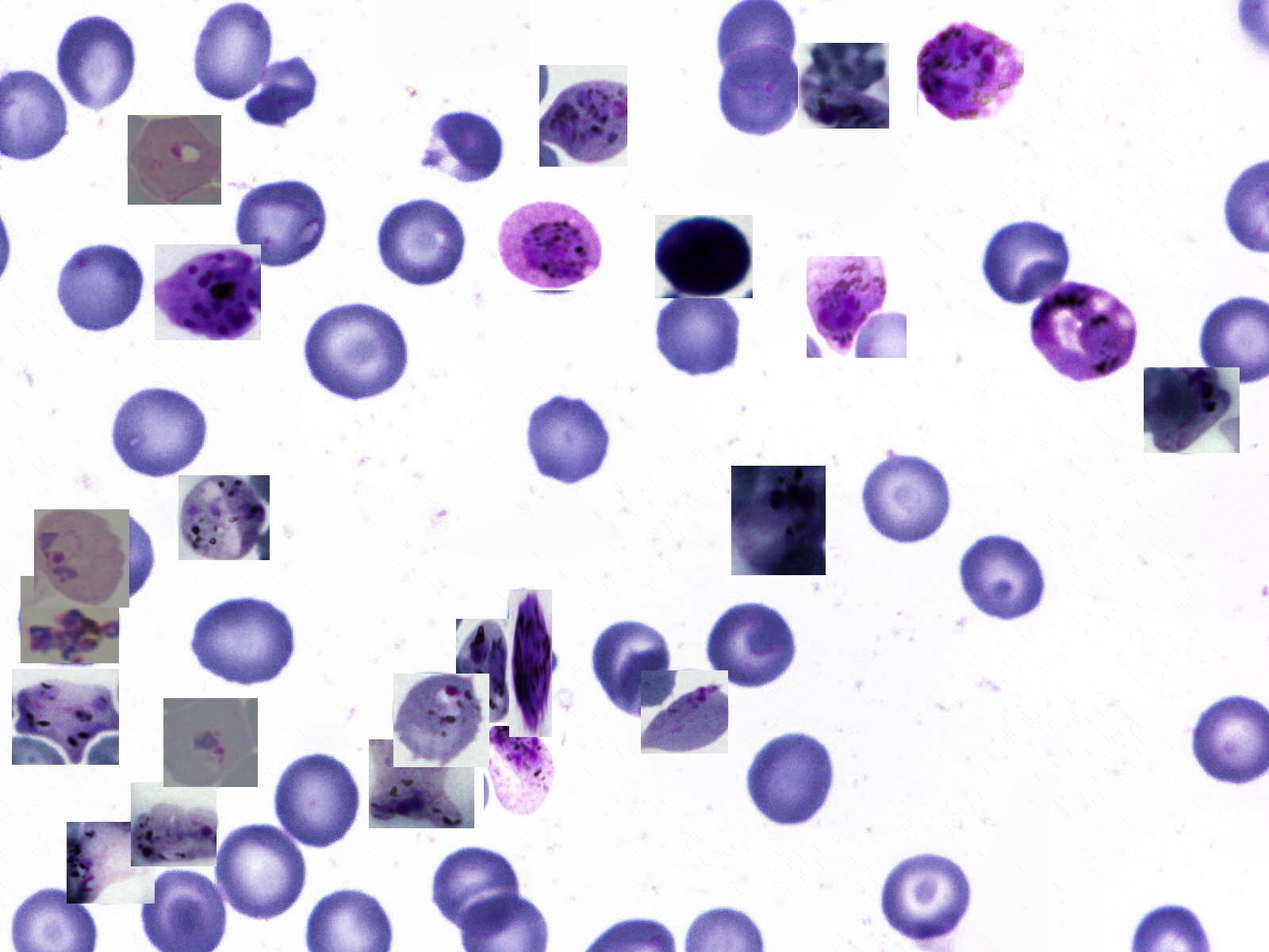Infected: (917, 11, 1024, 123), (731, 466, 826, 575), (1033, 284, 1137, 383), (12, 669, 119, 765), (807, 256, 907, 358), (155, 244, 261, 340), (497, 200, 602, 290), (34, 509, 129, 608), (369, 739, 474, 828), (539, 65, 627, 167), (393, 674, 489, 767), (21, 577, 119, 664), (163, 698, 258, 787), (128, 115, 221, 205), (1144, 367, 1240, 453), (655, 215, 753, 298), (798, 43, 889, 129), (178, 475, 270, 560), (484, 726, 565, 817), (641, 670, 728, 754), (67, 822, 155, 904), (132, 782, 217, 866), (509, 589, 552, 737), (456, 619, 516, 723)
Uninfected: (186, 589, 300, 688), (301, 301, 413, 401), (108, 382, 212, 482), (270, 748, 364, 851), (213, 820, 309, 919), (704, 596, 799, 693), (375, 195, 473, 287), (717, 42, 809, 139), (228, 178, 328, 267), (191, 3, 276, 106), (861, 452, 957, 542), (653, 282, 743, 378), (746, 728, 834, 825), (880, 852, 972, 944), (56, 242, 147, 334), (66, 509, 156, 601), (526, 394, 615, 487), (431, 841, 519, 935), (54, 17, 137, 113), (982, 217, 1072, 305), (958, 533, 1047, 621), (589, 622, 672, 715), (417, 109, 506, 183), (244, 56, 317, 127)
